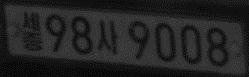0: (153, 20, 177, 63), (179, 24, 203, 65)
8: (205, 26, 229, 68), (70, 14, 93, 55)
9: (44, 12, 67, 54), (127, 20, 151, 60)
사: (97, 19, 119, 55)
세종_V: (21, 11, 44, 51)
